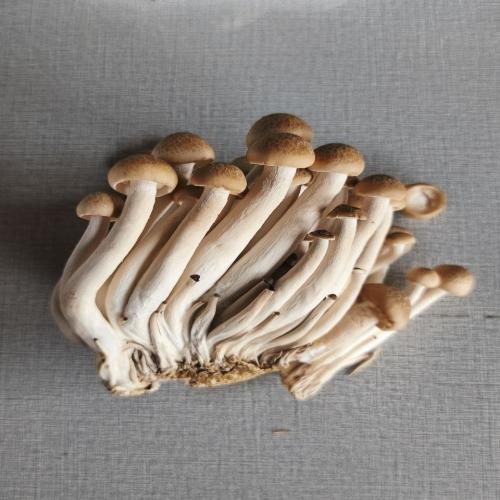Enoki Mushroom: (4, 37, 498, 483)
